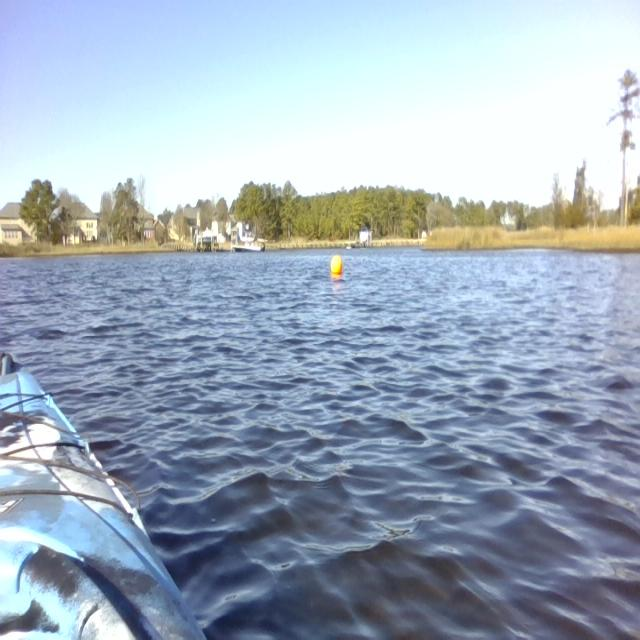Buoy: (328, 250, 344, 280)
